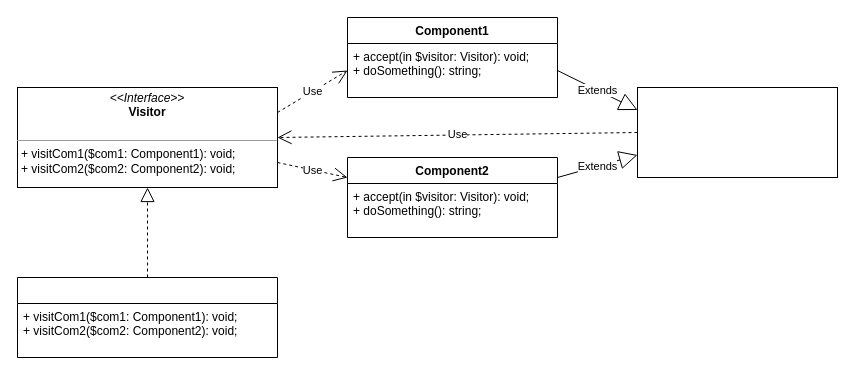
Some shapes in this 855 by 378 pixel diagram are drawn without their labels. Each missing label, with the box of its shape:
<<Interface>> Component + accept(in $visitor: Visitor): void;: (636, 86, 838, 178)
concreteVisitor: (16, 276, 278, 358)
